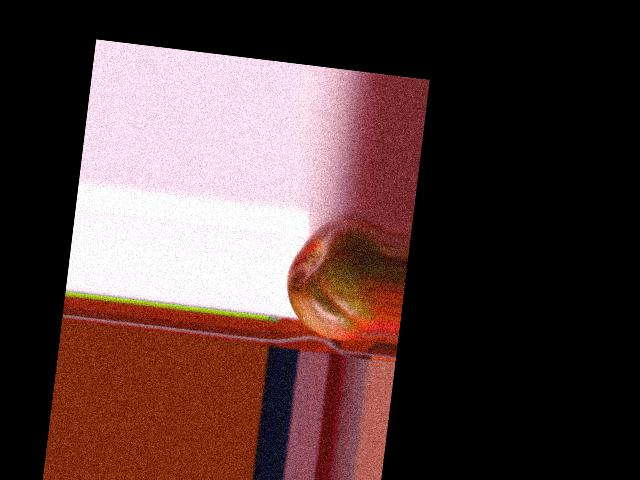tomato: (280, 212, 389, 344)
